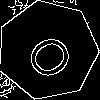O: (23, 25, 84, 84)
